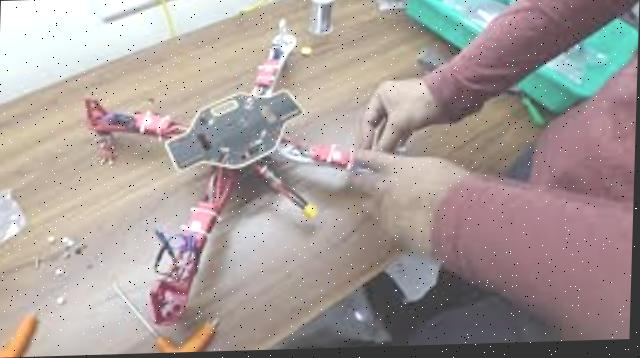drone: (68, 9, 382, 326)
